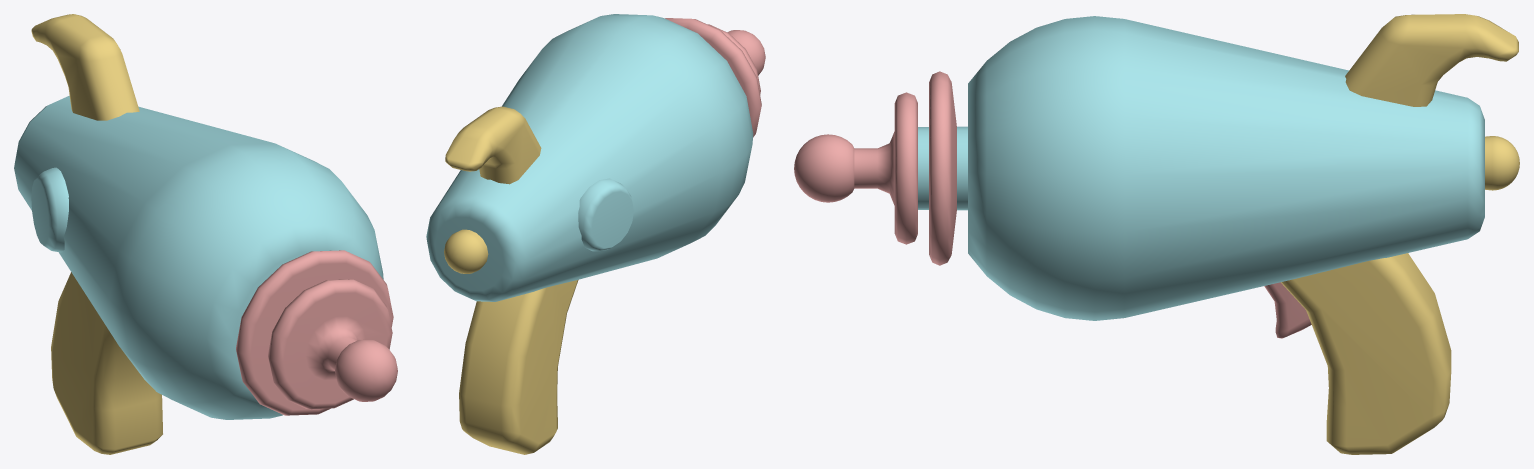
Rendered from chambre_pistolet.fbx.
3 views of the same model, side by side, from view 1: azimuth 30°, elevation 25°; view 2: azimuth 150°, elevation 25°; view 3: azimuth 270°, elevation 25° (orthographic). The views are drawn at different scales.
Parts seen in each view (by area): view 1: msh_cha_pistolet; view 2: msh_cha_pistolet; view 3: msh_cha_pistolet.
Boxes of the visible parts, box(x1,y1,x2,y2) form: msh_cha_pistolet: box(14, 14, 397, 454); msh_cha_pistolet: box(426, 14, 765, 454); msh_cha_pistolet: box(794, 14, 1519, 454).
Bounding box in the file's own units: 17.56 × 26.97 × 41.76.
